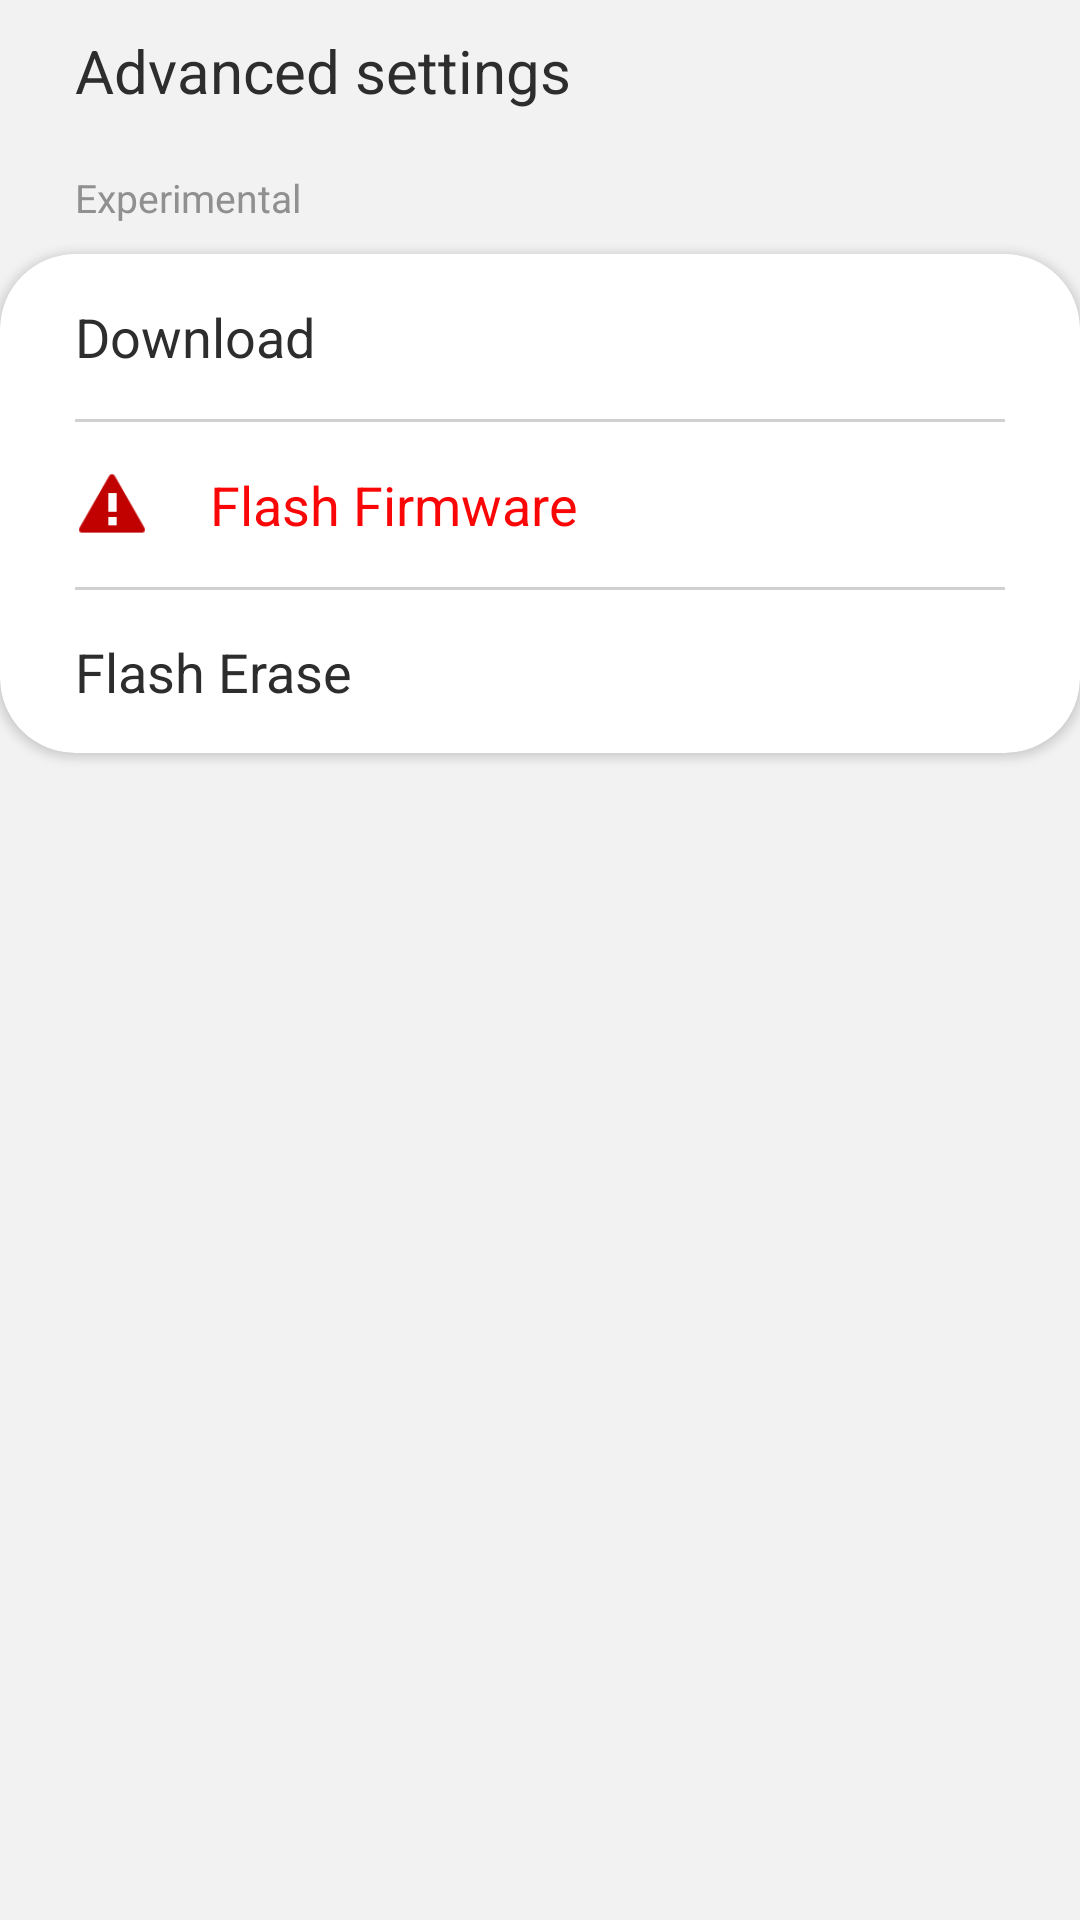

Icons on this 1080 × 1920 Android screen, each with its box as (x1, y1, x2, y2):
warning: (79, 474, 145, 533)
